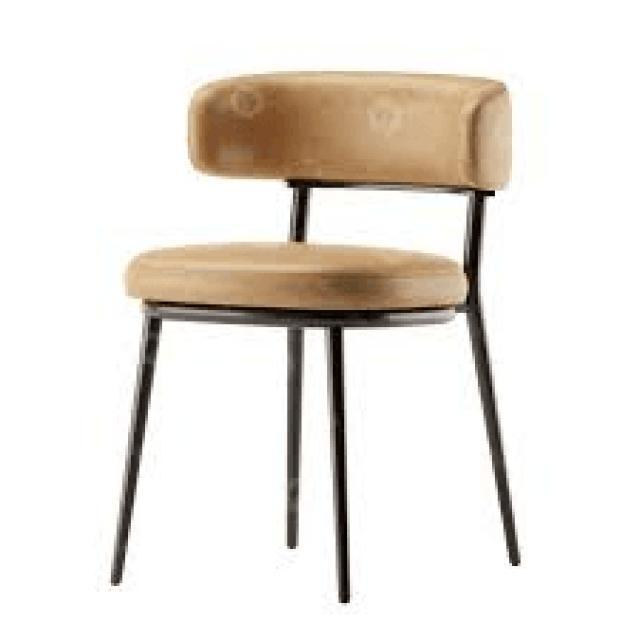chair: (104, 65, 528, 607), (119, 58, 517, 326)
